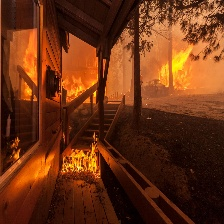fire: (158, 38, 195, 93), (61, 144, 103, 180), (66, 71, 104, 102)
